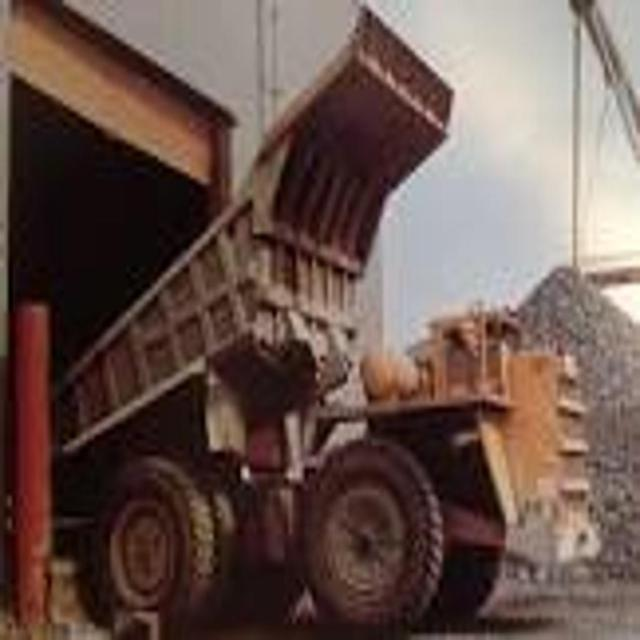dump_truck: (30, 0, 603, 640)
